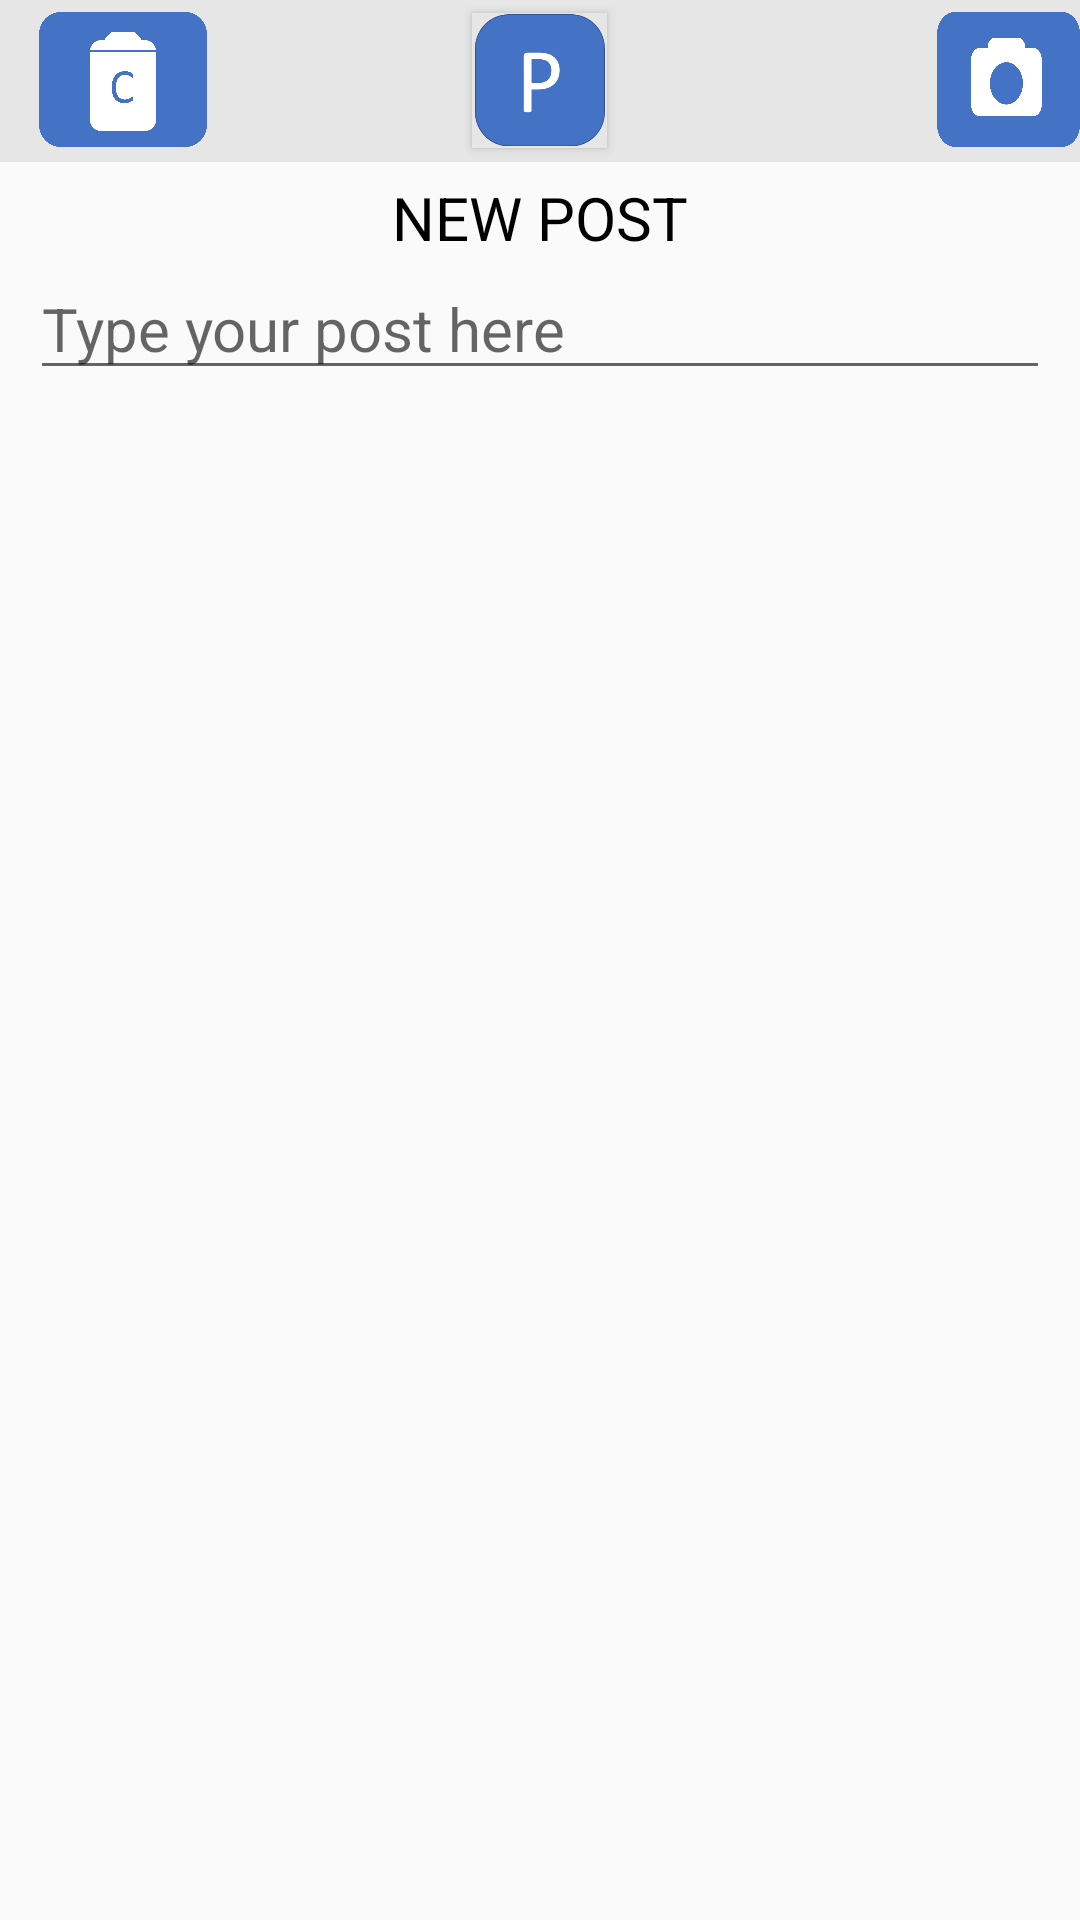

Point at icon controls on the screen. Image size 1080 × 1920, points as point (x, y).
cancel: point (123, 79)
photo: point (1008, 79)
